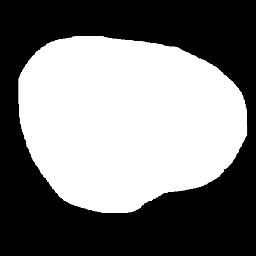mass: (22, 43, 239, 185)
